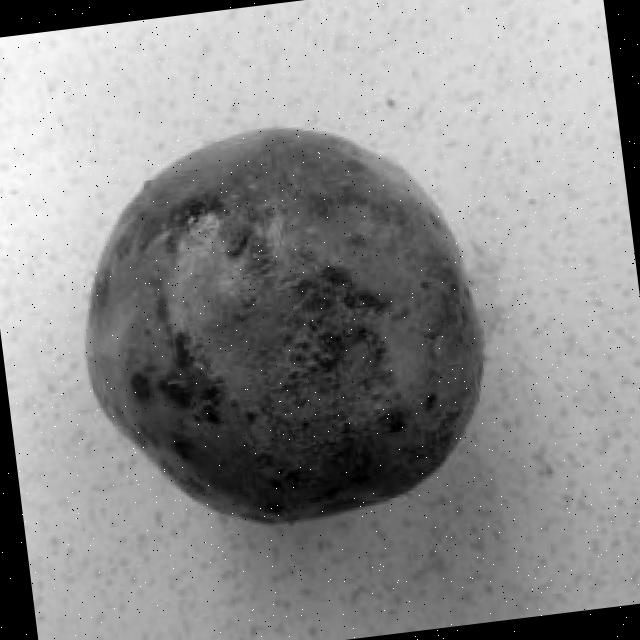Rotten: (54, 99, 501, 552)
